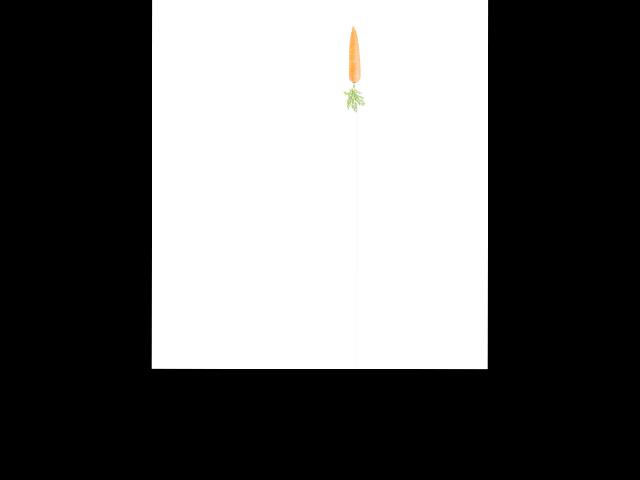carrot: (346, 24, 362, 84)
